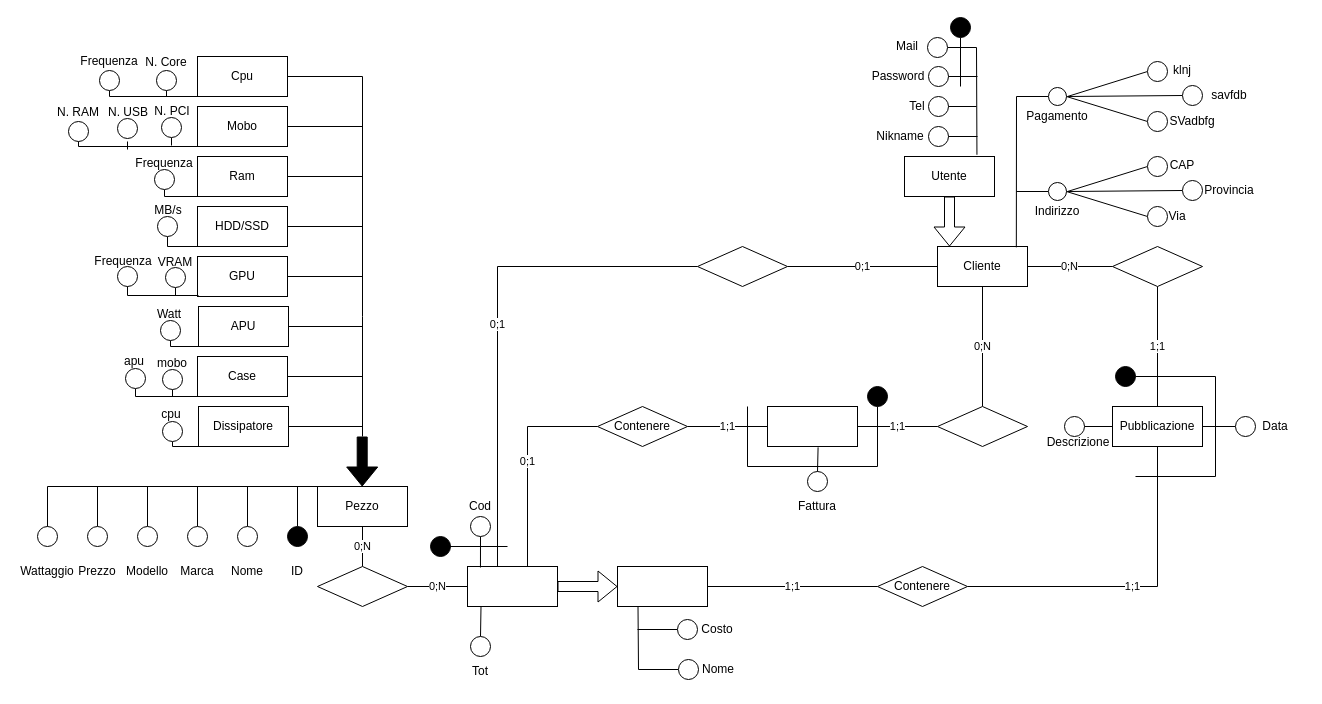
Image size: 1322x704. Some labels were removed from this diagram. Here are the shapes that lost their labels. From the top down, the centre of each, then its label:
point (742, 266): Riempire
point (1157, 266): Effettuare
point (812, 426): Ordine
point (982, 426): Eseguire
point (362, 586): Comporre
point (512, 586): Carrello
point (662, 586): Build
